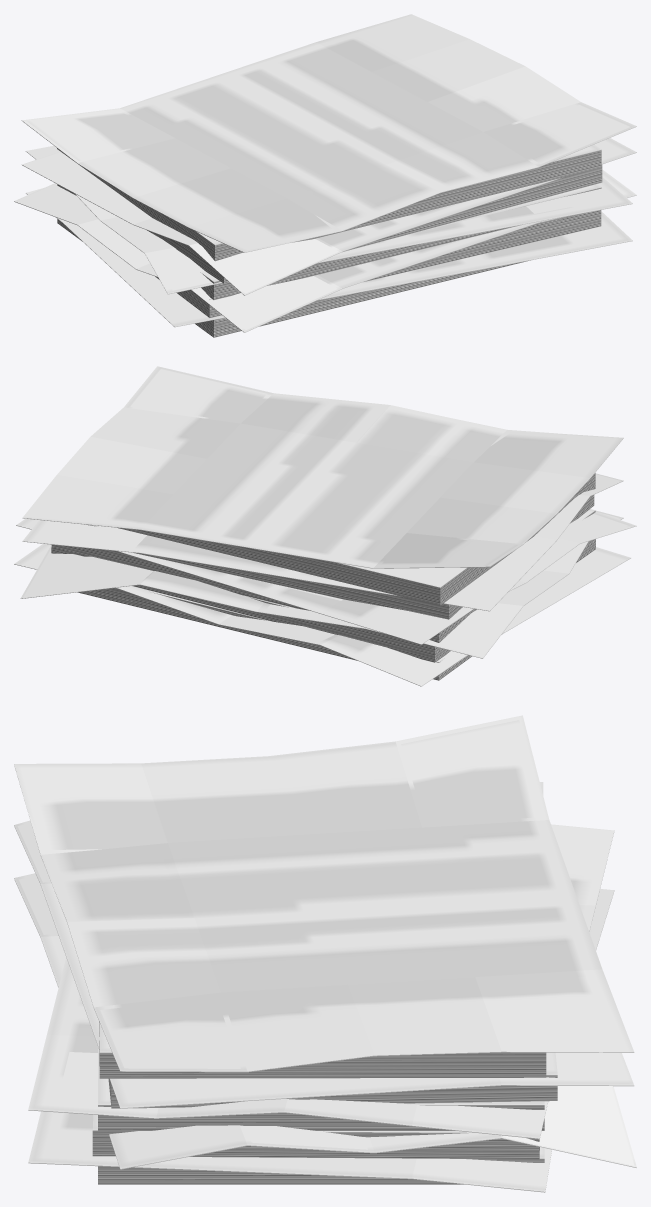
The model's file is Papers.fbx.
3 renders of one model, top to bottom at view 1: azimuth 30°, elevation 25°; view 2: azimuth 150°, elevation 25°; view 3: azimuth 270°, elevation 25°, orthographic. The views are drawn at different scales.
Parts seen in each view (by area): view 1: Papers; view 2: Papers; view 3: Papers.
Boxes of the visible parts, <box> form: Papers: <box>14,14,636,337</box>; Papers: <box>14,366,636,686</box>; Papers: <box>14,715,636,1192</box>.
Size of the model in its own units: 0.3672 by 0.2929 by 0.088.
